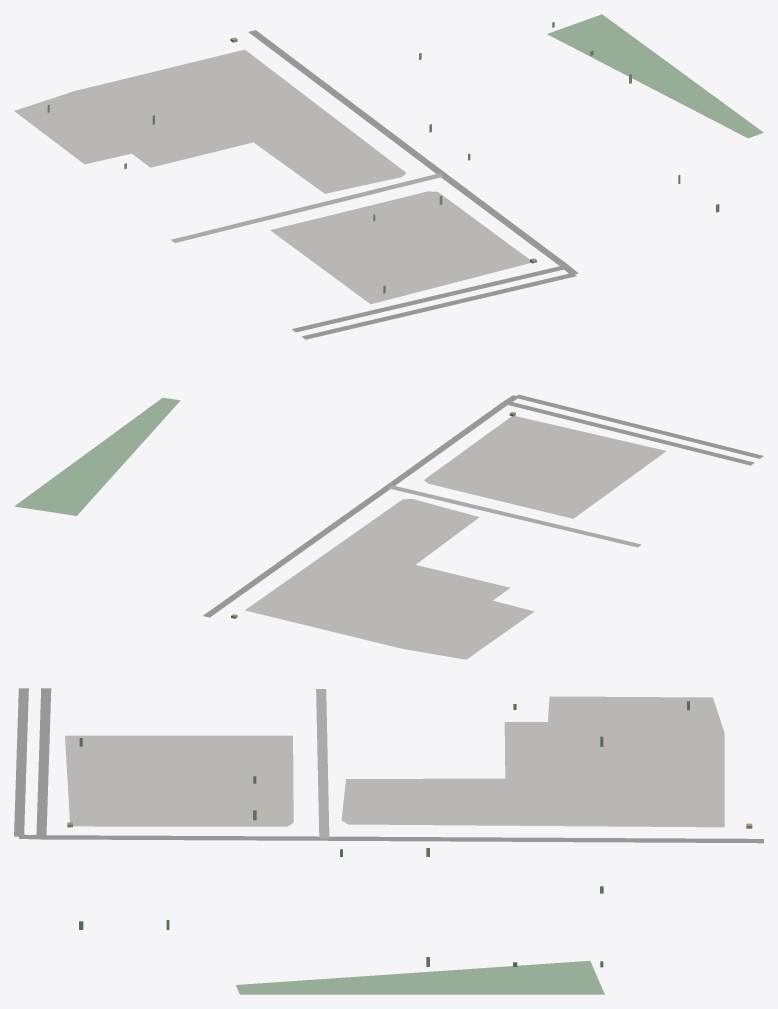
The picture shows the model from 3 angles, top to bottom: view 1: azimuth 30°, elevation 25°; view 2: azimuth 150°, elevation 25°; view 3: azimuth 270°, elevation 25°; orthographic projection. The views are drawn at different scales.
Bounding box in the file's own units: 501 × 8.26 × 519.
